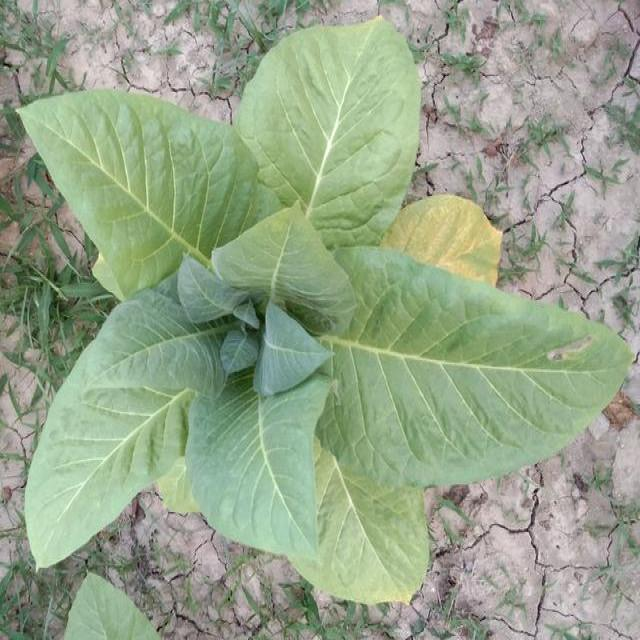crop: (26, 20, 602, 601)
